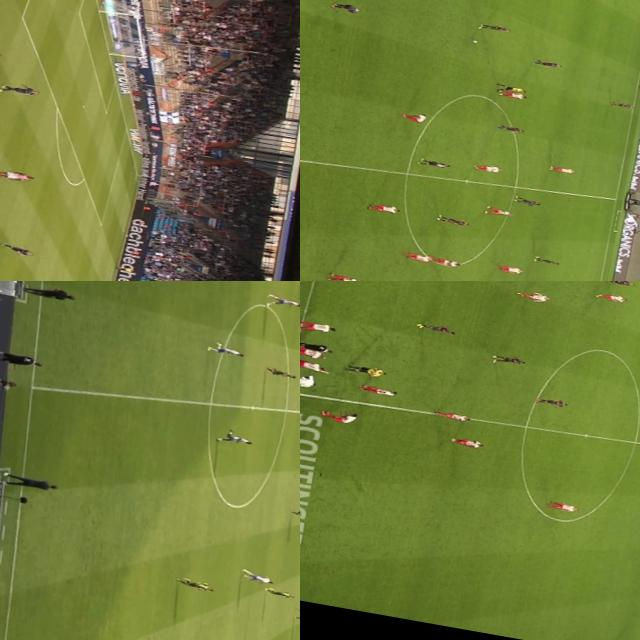ball: (468, 37, 482, 43)
player: (204, 340, 247, 359), (0, 80, 41, 99), (320, 406, 362, 424), (216, 427, 253, 447), (513, 286, 554, 304), (364, 200, 404, 218), (240, 569, 278, 587), (0, 166, 35, 184), (417, 321, 459, 336), (263, 294, 300, 311), (178, 576, 219, 591), (263, 365, 300, 381), (489, 353, 528, 367), (0, 240, 34, 256), (333, 0, 364, 17), (324, 268, 364, 281), (473, 20, 510, 34), (546, 498, 582, 512), (421, 155, 454, 170), (362, 383, 400, 396), (402, 248, 436, 262), (426, 254, 460, 268), (448, 436, 486, 448), (532, 254, 564, 268), (544, 162, 578, 175), (493, 120, 522, 135), (403, 110, 434, 124), (494, 88, 530, 100), (535, 396, 570, 408), (596, 291, 631, 303), (436, 213, 468, 226), (438, 411, 472, 422), (512, 194, 542, 206), (482, 204, 512, 216), (266, 588, 296, 600), (607, 97, 634, 109), (536, 56, 561, 68), (476, 162, 500, 174), (496, 264, 522, 274), (604, 281, 637, 286), (291, 608, 300, 622)
